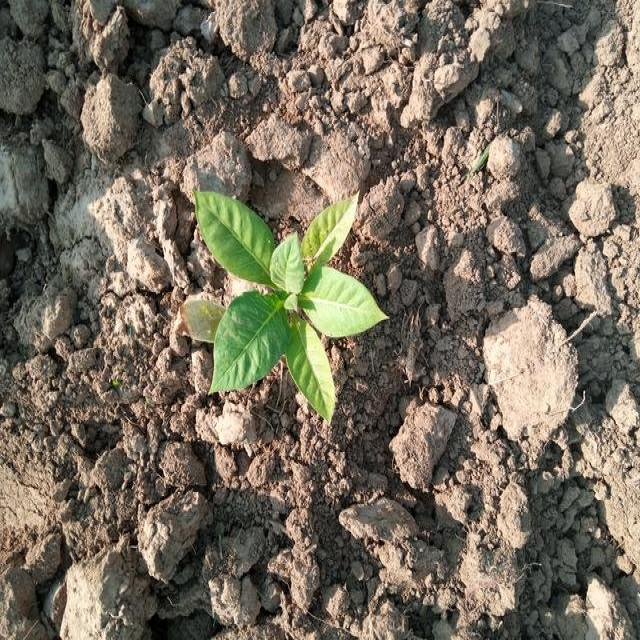crop: (188, 186, 382, 414)
